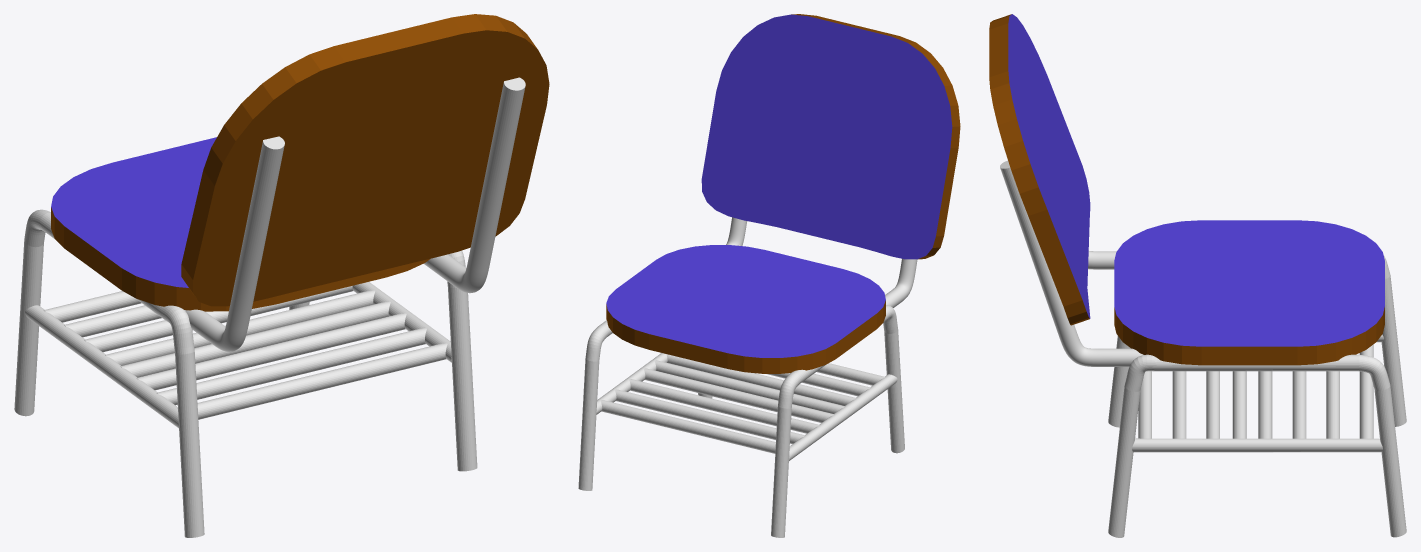
Rendered from Silla Realistic.fbx.
The picture shows the model from 3 angles, left to right: view 1: azimuth 30°, elevation 25°; view 2: azimuth 150°, elevation 25°; view 3: azimuth 270°, elevation 25°; orthographic projection. The views are drawn at different scales.
Visible parts, largest first — view 1: Cube.001, Grilla de abajo, Cube, Patas de abajo, patas de arriba, patas de arriba.002; view 2: Cube.001, Cube, Grilla de abajo, Patas de abajo, patas de arriba; view 3: Cube, Cube.001, Grilla de abajo, Patas de abajo, patas de arriba.002, patas de arriba.
Part boxes in pixels (<box>): Cube.001: <box>181,14,549,306</box>; Grilla de abajo: <box>25,282,451,428</box>; Cube: <box>51,137,430,311</box>; Patas de abajo: <box>14,209,477,537</box>; patas de arriba: <box>185,136,284,351</box>; patas de arriba.002: <box>424,77,525,293</box>; Cube.001: <box>701,14,960,259</box>; Cube: <box>606,245,885,373</box>; Grilla de abajo: <box>596,353,897,460</box>; Patas de abajo: <box>578,305,904,537</box>; patas de arriba: <box>885,259,917,307</box>; Cube: <box>1114,220,1384,365</box>; Cube.001: <box>989,14,1090,325</box>; Grilla de abajo: <box>1132,334,1383,452</box>; Patas de abajo: <box>1108,255,1406,537</box>; patas de arriba.002: <box>1000,160,1143,366</box>; patas de arriba: <box>1088,251,1116,269</box>.
Size of the model in its own units: 187 by 281 by 246.
